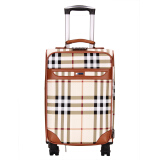suitcase: (42, 5, 118, 156)
